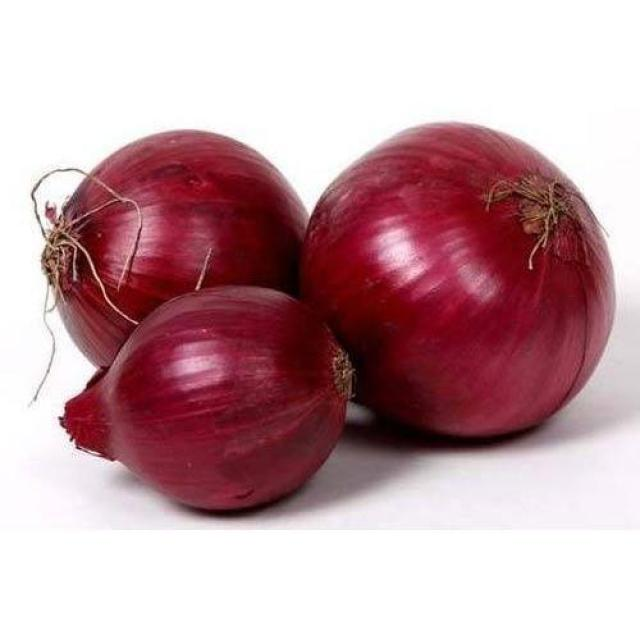Onion: (308, 119, 616, 440), (24, 130, 308, 408), (61, 285, 356, 516)
